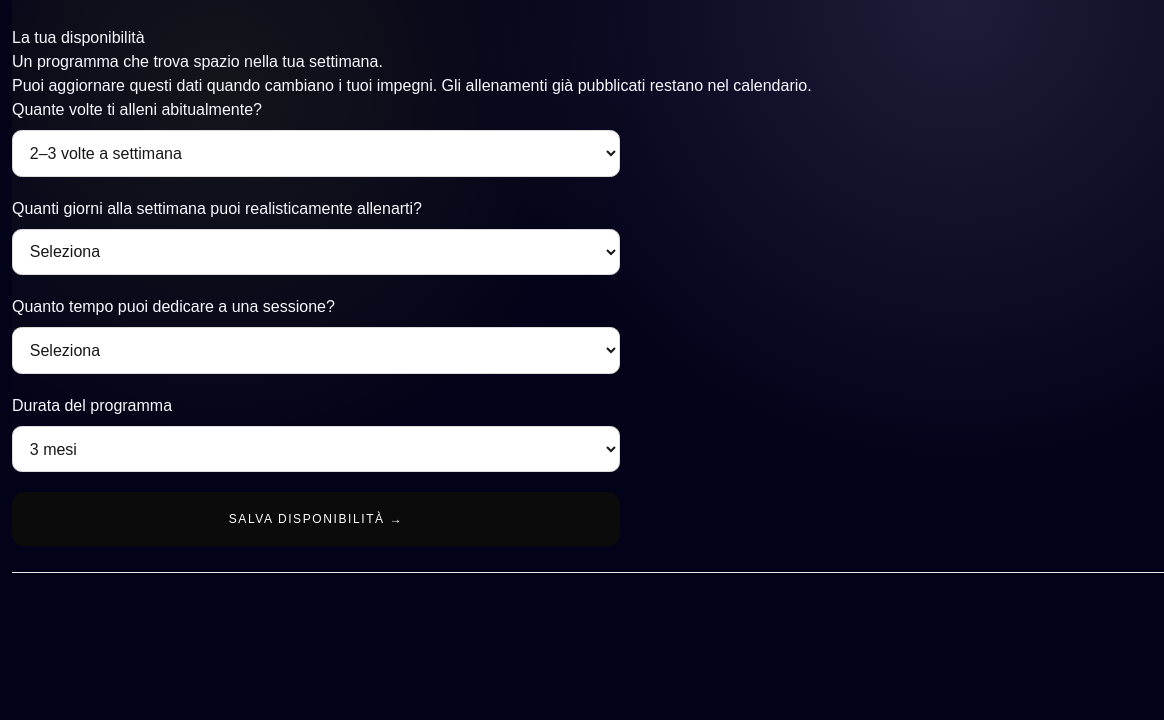
Test: PF4 athlete experience › saves actual availability and the existing duration choices
Select "4 giorni" in the dropdown labelled "Quanti giorni alla settimana puoi realisticamente allenarti?" at (316,252), box [12, 229, 620, 275]
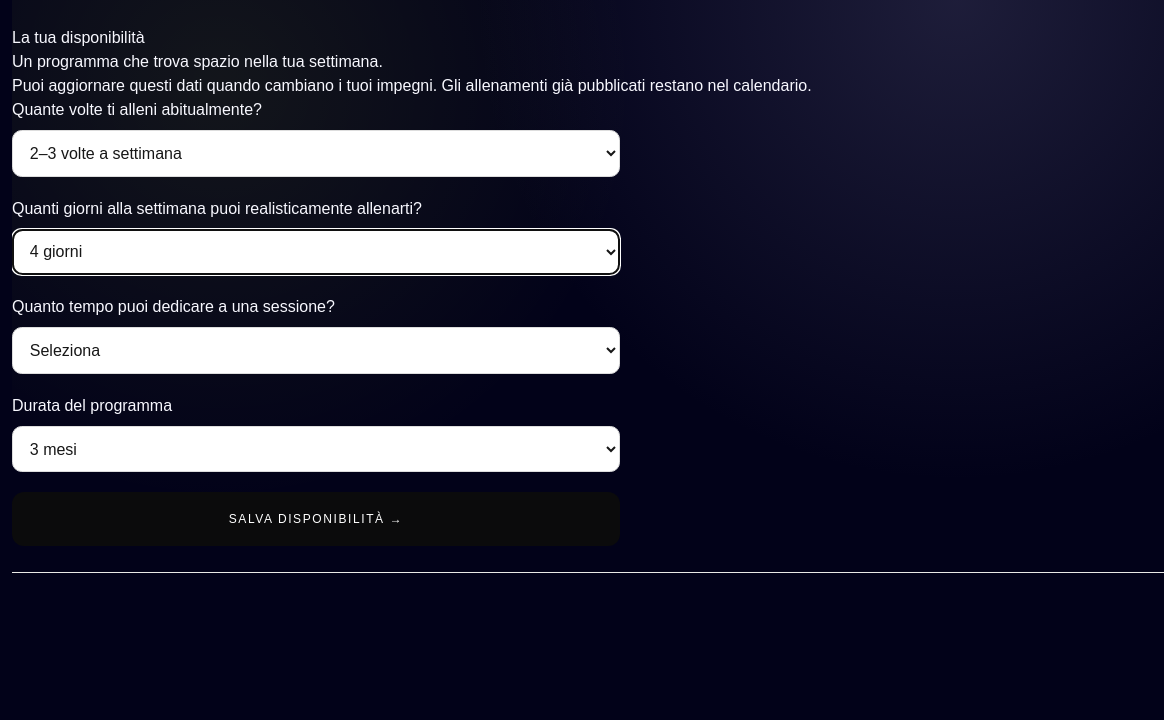
Select "60 minuti" in the dropdown labelled "Quanto tempo puoi dedicare a una sessione?" at (316,350), box [12, 327, 620, 374]
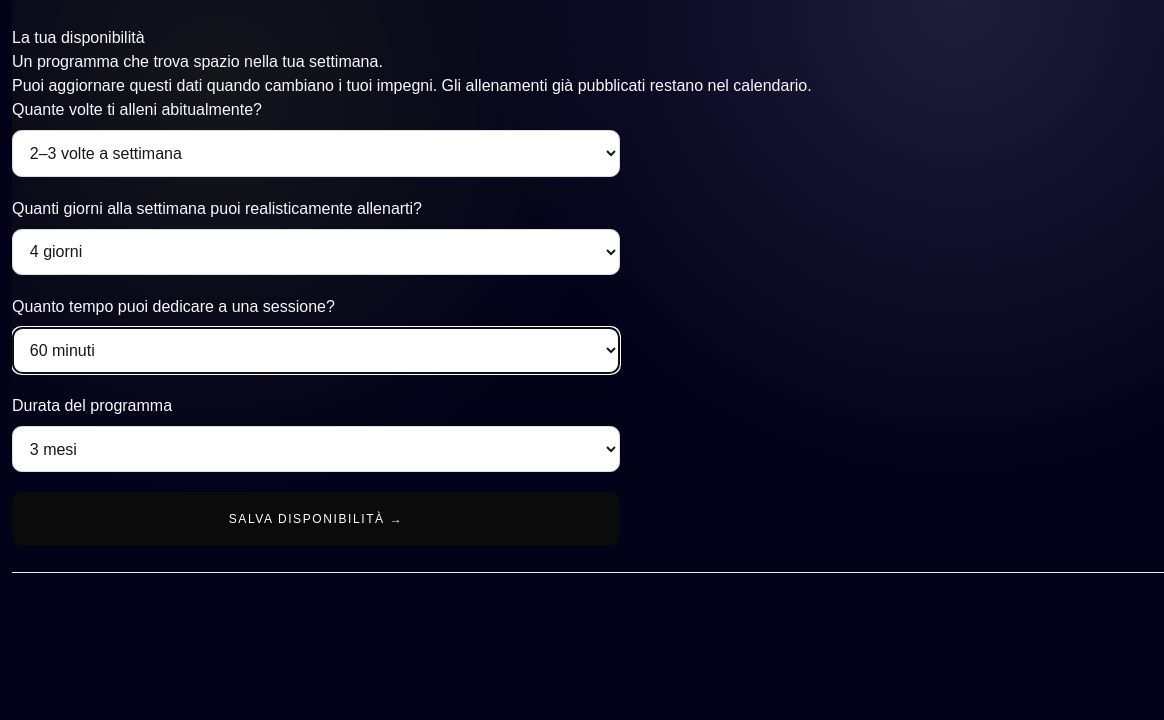
expect the dropdown labelled "Durata del programma" shows "3 mesi": met, box [12, 426, 620, 472]
Click the button "Salva disponibilità →" at (316,519), box [12, 492, 620, 546]
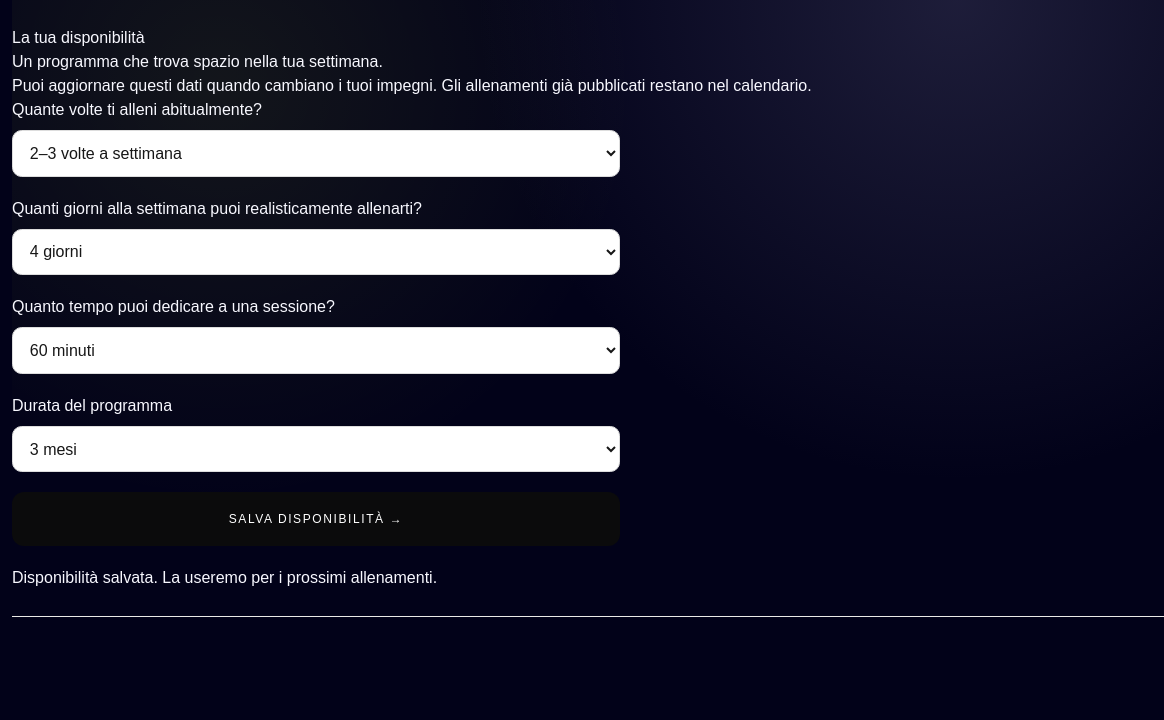
expect the message shows "Disponibilità salvata": met, box [12, 569, 437, 586]
